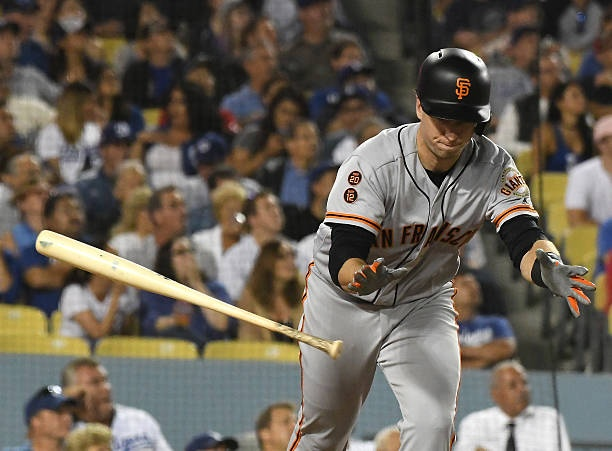bita: (35, 232, 343, 358)
